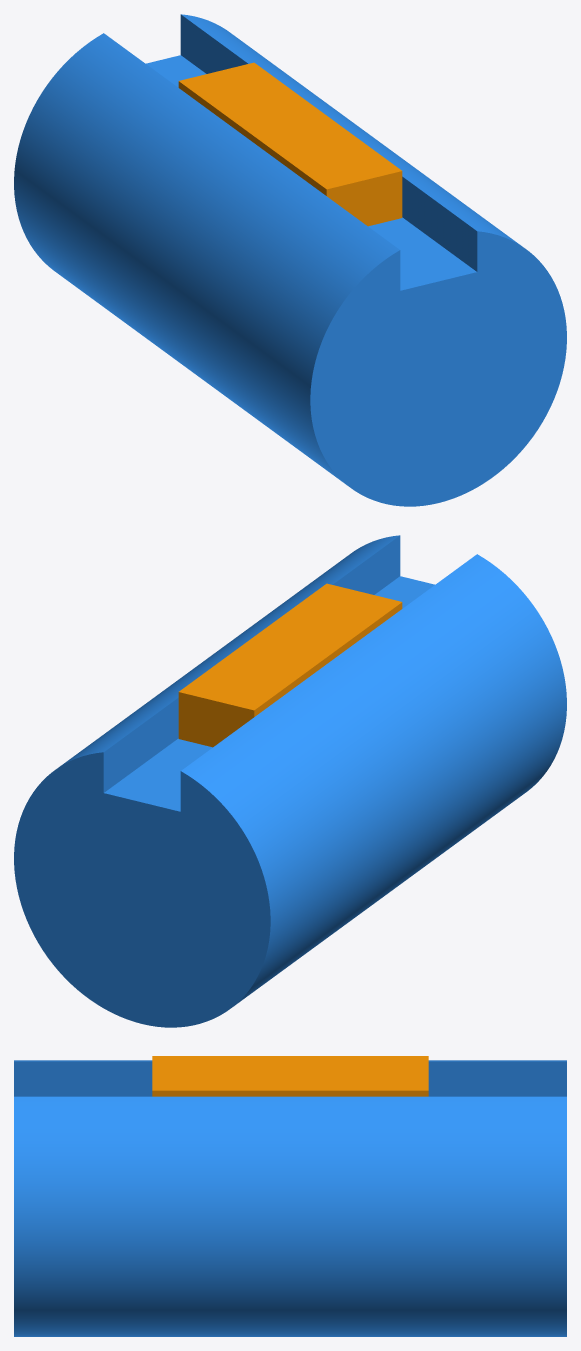
File: assembly.glb
The picture shows the model from 3 angles, top to bottom: view 1: azimuth 30°, elevation 25°; view 2: azimuth 150°, elevation 25°; view 3: azimuth 270°, elevation 25°; orthographic projection. The views are drawn at different scales.
Visible parts, largest first — view 1: shaft/keyed-shaft-d20x40-kw6x3.5/body, key/key-20x5.9x3.5/body; view 2: shaft/keyed-shaft-d20x40-kw6x3.5/body, key/key-20x5.9x3.5/body; view 3: shaft/keyed-shaft-d20x40-kw6x3.5/body, key/key-20x5.9x3.5/body.
Part boxes in pixels (x1,y1,x2,y2): shaft/keyed-shaft-d20x40-kw6x3.5/body: (14,14,566,506); key/key-20x5.9x3.5/body: (178,62,402,226); shaft/keyed-shaft-d20x40-kw6x3.5/body: (14,535,566,1027); key/key-20x5.9x3.5/body: (178,583,402,747); shaft/keyed-shaft-d20x40-kw6x3.5/body: (14,1060,566,1336); key/key-20x5.9x3.5/body: (152,1056,428,1096).
Bounding box in the file's own units: 0.02 × 0.02 × 0.04.
